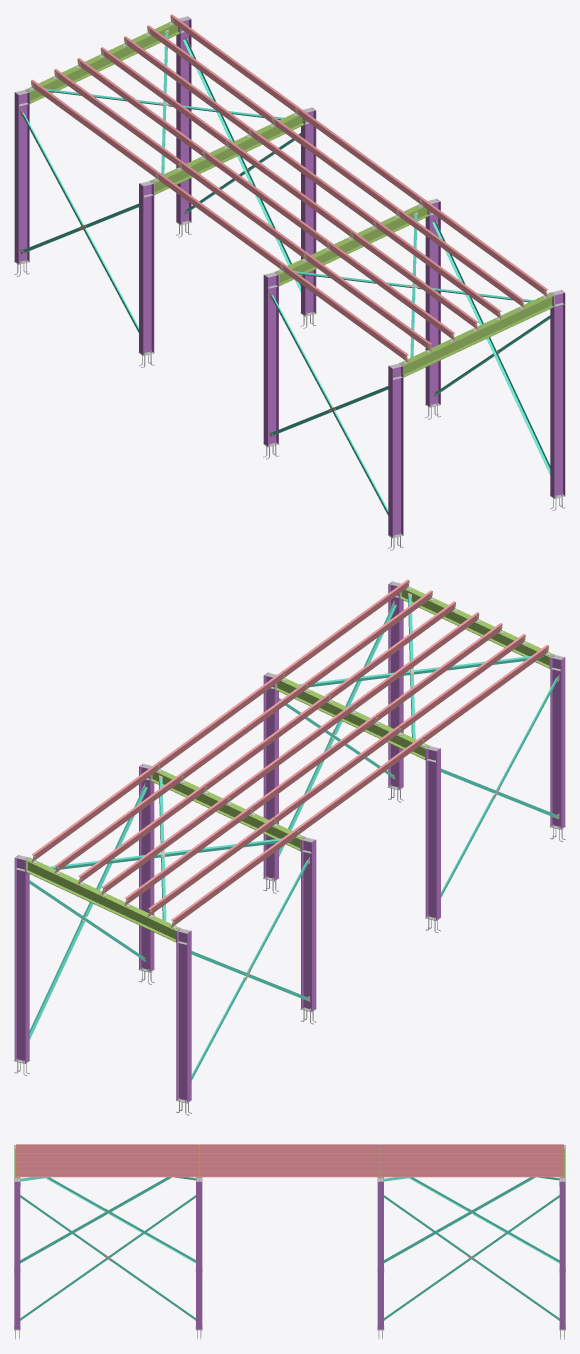
File: ttt.glb
3 renders of one model, top to bottom at view 1: azimuth 30°, elevation 25°; view 2: azimuth 150°, elevation 25°; view 3: azimuth 270°, elevation 25°, orthographic. The views are drawn at different scales.
Visible parts, largest first — view 1: IfcColumn_COLUMN_0YnK2ZeWf798ou_MYGo99v, IfcColumn_COLUMN_2nehjbAjzAuR$AnxffY9Uh, IfcColumn_COLUMN_39xdpxaUD9SAdpQ3ZDC62Y, IfcColumn_COLUMN_1dGKr07ff4VxUiViqMfD0U, IfcColumn_COLUMN_3LKHVf$ZfAQ8kJ8D07$sO_, IfcBeam_BEAM_0LHMq4Q_H0qO_3fcPshxOu, IfcColumn_COLUMN_1BlwePV15AJOKAb26Zg3sU, IfcColumn_COLUMN_186fAOcsXAMhNzbwVmjCry, IfcColumn_COLUMN_3rRUIKbpPFIgJDl1DSM98u, IfcBeam_BEAM_2XSmYGicvDqRma06wkV2kD, IfcBeam_BEAM_2Gmcs$WaT89ug1MkpcSl2K, IfcBeam_BEAM_2CJA7MiPv9xP29n_i$PH9x (+25 smaller); view 2: IfcColumn_COLUMN_3rRUIKbpPFIgJDl1DSM98u, IfcColumn_COLUMN_3LKHVf$ZfAQ8kJ8D07$sO_, IfcColumn_COLUMN_1dGKr07ff4VxUiViqMfD0U, IfcColumn_COLUMN_39xdpxaUD9SAdpQ3ZDC62Y, IfcColumn_COLUMN_2nehjbAjzAuR$AnxffY9Uh, IfcBeam_BEAM_2CJA7MiPv9xP29n_i$PH9x, IfcColumn_COLUMN_186fAOcsXAMhNzbwVmjCry, IfcColumn_COLUMN_1BlwePV15AJOKAb26Zg3sU, IfcColumn_COLUMN_0YnK2ZeWf798ou_MYGo99v, IfcBeam_BEAM_2Gmcs$WaT89ug1MkpcSl2K, IfcBeam_BEAM_2XSmYGicvDqRma06wkV2kD, IfcBeam_BEAM_0LHMq4Q_H0qO_3fcPshxOu (+23 smaller); view 3: IfcBeam_PURLIN_25fG1ZA812vgjyRrihntwf, IfcBeam_PURLIN_3U41jmC2XFPPe2J3cG9Jyj, IfcBeam_PURLIN_31NU9wS4T7KgwkaTKtWaIN, IfcColumn_COLUMN_1BlwePV15AJOKAb26Zg3sU, IfcColumn_COLUMN_186fAOcsXAMhNzbwVmjCry, IfcColumn_COLUMN_0YnK2ZeWf798ou_MYGo99v, IfcColumn_COLUMN_3rRUIKbpPFIgJDl1DSM98u, IfcBeam_PURLIN_0nin7SLJzBlAtNjt8i1qVK, IfcBeam_PURLIN_2k73prfP1AqxX2QqprUiOn, IfcBeam_PURLIN_1CtnDrB3r438nhv64qMPiB, IfcBeam_PURLIN_0H3HDgWO91qQ8uz2GWz8we, IfcBeam_PURLIN_0SdAp6Ihv7iPjSnBXcRGtO (+23 smaller).
Boxes of the visible parts, x1,y1,x2,y2 form: IfcColumn_COLUMN_0YnK2ZeWf798ou_MYGo99v: (550, 290, 565, 498); IfcColumn_COLUMN_2nehjbAjzAuR$AnxffY9Uh: (139, 181, 154, 355); IfcColumn_COLUMN_39xdpxaUD9SAdpQ3ZDC62Y: (388, 363, 403, 537); IfcColumn_COLUMN_1dGKr07ff4VxUiViqMfD0U: (14, 89, 29, 263); IfcColumn_COLUMN_3LKHVf$ZfAQ8kJ8D07$sO_: (263, 272, 278, 446); IfcBeam_BEAM_0LHMq4Q_H0qO_3fcPshxOu: (400, 292, 553, 377); IfcColumn_COLUMN_1BlwePV15AJOKAb26Zg3sU: (425, 198, 440, 406); IfcColumn_COLUMN_186fAOcsXAMhNzbwVmjCry: (301, 107, 316, 315); IfcColumn_COLUMN_3rRUIKbpPFIgJDl1DSM98u: (176, 16, 191, 224); IfcBeam_BEAM_2XSmYGicvDqRma06wkV2kD: (151, 113, 304, 194); IfcBeam_BEAM_2Gmcs$WaT89ug1MkpcSl2K: (275, 204, 429, 285); IfcBeam_BEAM_2CJA7MiPv9xP29n_i$PH9x: (26, 21, 179, 103); IfcColumn_COLUMN_3rRUIKbpPFIgJDl1DSM98u: (14, 855, 29, 1063); IfcColumn_COLUMN_3LKHVf$ZfAQ8kJ8D07$sO_: (425, 746, 440, 920); IfcColumn_COLUMN_1dGKr07ff4VxUiViqMfD0U: (176, 928, 191, 1102); IfcColumn_COLUMN_39xdpxaUD9SAdpQ3ZDC62Y: (550, 654, 565, 828); IfcColumn_COLUMN_2nehjbAjzAuR$AnxffY9Uh: (301, 837, 316, 1011); IfcBeam_BEAM_2CJA7MiPv9xP29n_i$PH9x: (26, 857, 179, 942); IfcColumn_COLUMN_186fAOcsXAMhNzbwVmjCry: (139, 763, 154, 971); IfcColumn_COLUMN_1BlwePV15AJOKAb26Zg3sU: (263, 672, 278, 880); IfcColumn_COLUMN_0YnK2ZeWf798ou_MYGo99v: (388, 581, 403, 789); IfcBeam_BEAM_2Gmcs$WaT89ug1MkpcSl2K: (275, 678, 428, 759); IfcBeam_BEAM_2XSmYGicvDqRma06wkV2kD: (150, 769, 304, 850); IfcBeam_BEAM_0LHMq4Q_H0qO_3fcPshxOu: (400, 586, 553, 668); IfcBeam_PURLIN_25fG1ZA812vgjyRrihntwf: (16, 1171, 198, 1177); IfcBeam_PURLIN_3U41jmC2XFPPe2J3cG9Jyj: (381, 1171, 563, 1177); IfcBeam_PURLIN_31NU9wS4T7KgwkaTKtWaIN: (199, 1171, 380, 1177); IfcColumn_COLUMN_1BlwePV15AJOKAb26Zg3sU: (196, 1178, 202, 1329); IfcColumn_COLUMN_186fAOcsXAMhNzbwVmjCry: (377, 1178, 383, 1329); IfcColumn_COLUMN_0YnK2ZeWf798ou_MYGo99v: (14, 1178, 20, 1329); IfcColumn_COLUMN_3rRUIKbpPFIgJDl1DSM98u: (559, 1178, 565, 1329); IfcBeam_PURLIN_0nin7SLJzBlAtNjt8i1qVK: (16, 1166, 198, 1170); IfcBeam_PURLIN_2k73prfP1AqxX2QqprUiOn: (381, 1166, 563, 1170); IfcBeam_PURLIN_1CtnDrB3r438nhv64qMPiB: (16, 1162, 198, 1166); IfcBeam_PURLIN_0H3HDgWO91qQ8uz2GWz8we: (381, 1162, 563, 1166); IfcBeam_PURLIN_0SdAp6Ihv7iPjSnBXcRGtO: (16, 1157, 198, 1161).
Bounding box in the file's own units: 4.94 × 6.01 × 18.52.
